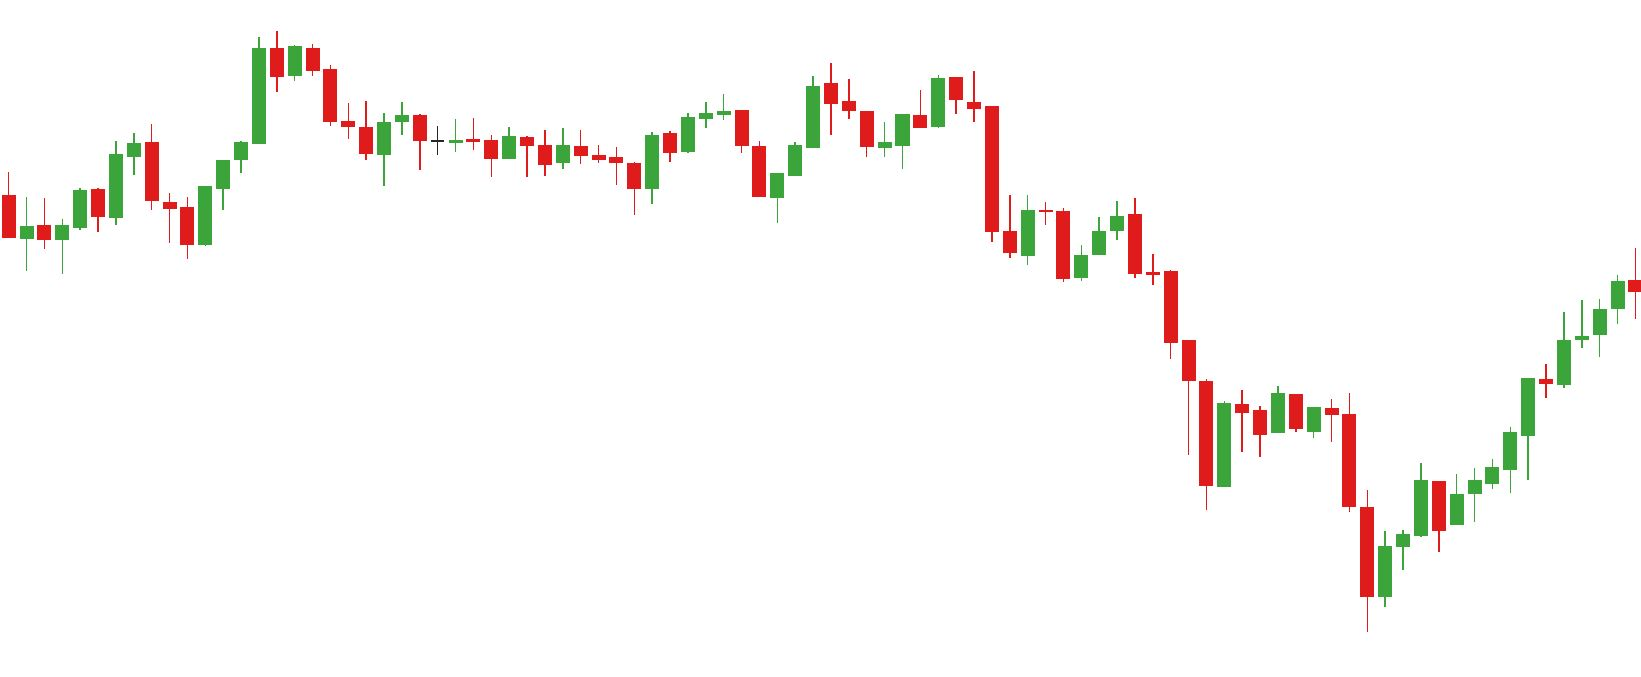buy: (94, 152, 213, 267)
sell: (717, 60, 840, 164)
